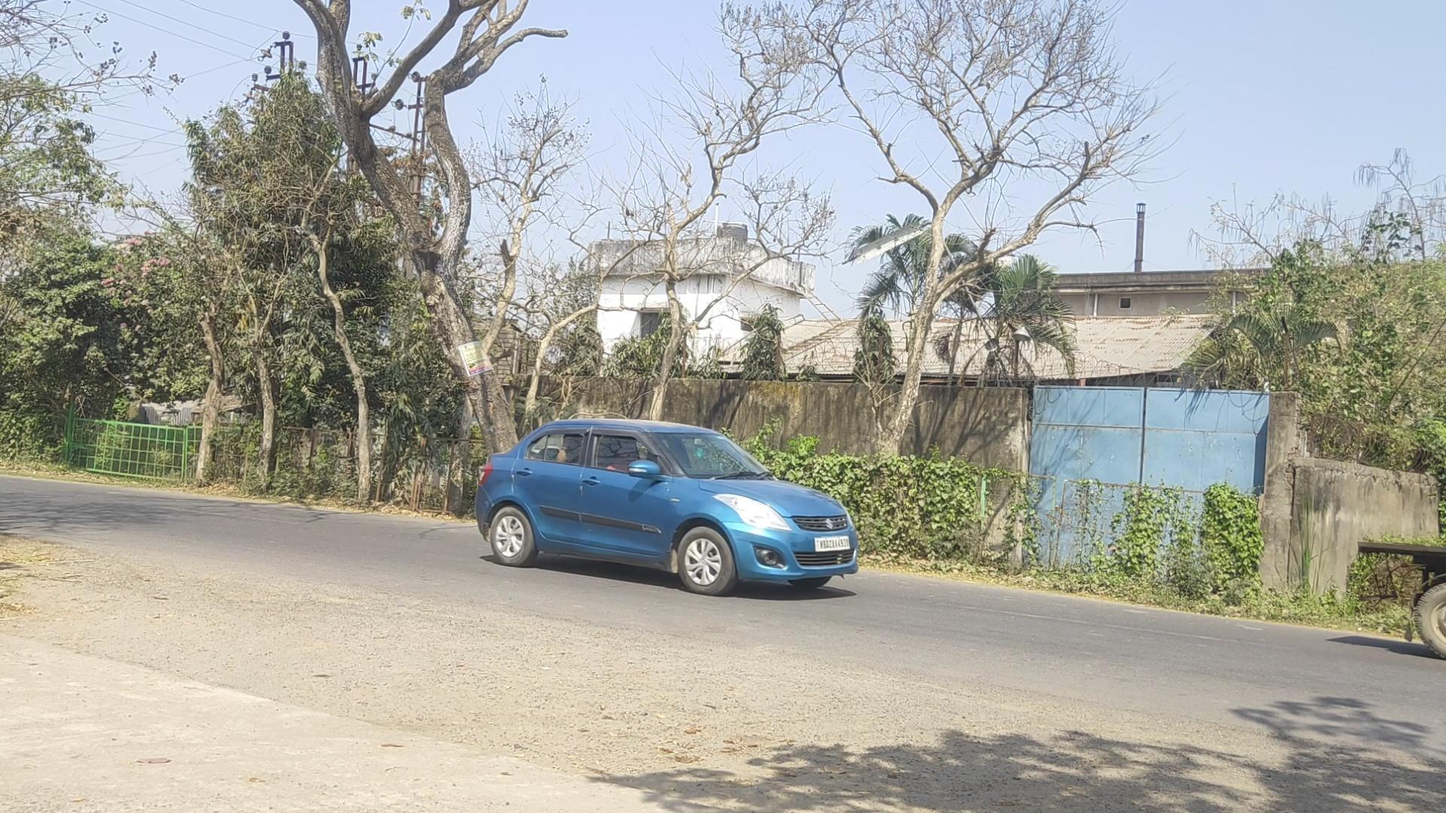car: (475, 418, 859, 597)
